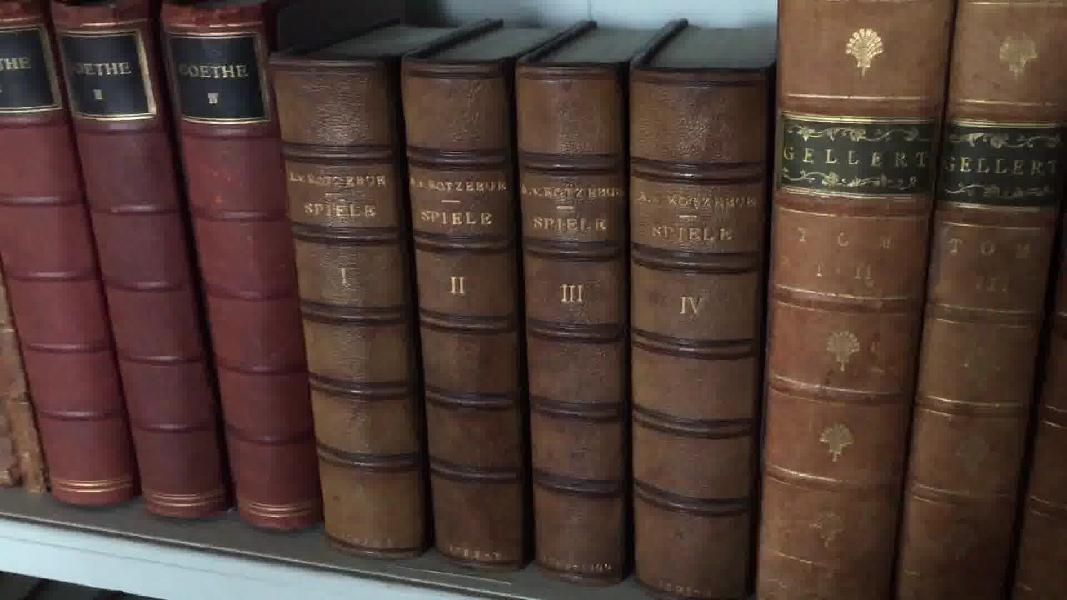Aa6-11_13: (5, 8, 323, 542)
Aa6-14_17: (261, 47, 789, 600)
